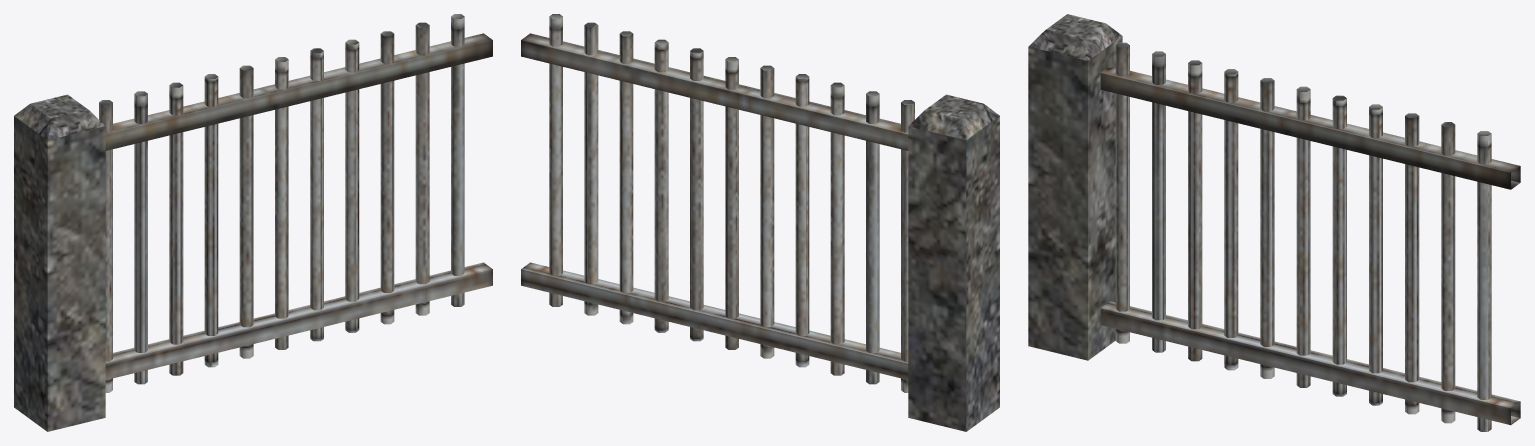
File: fence_placeholder 1.fbx
3 renders of one model, left to right at view 1: azimuth 30°, elevation 25°; view 2: azimuth 150°, elevation 25°; view 3: azimuth 330°, elevation 25°, orthographic. The views are drawn at different scales.
Parts seen in each view (by area): view 1: Fence_placeholder; view 2: Fence_placeholder; view 3: Fence_placeholder.
Part boxes in pixels (box(x1,y1,x2,y2)): Fence_placeholder: box(14, 14, 492, 431); Fence_placeholder: box(521, 14, 999, 431); Fence_placeholder: box(1028, 14, 1520, 431).
Size of the model in its own units: 412 by 263 by 52.32.
